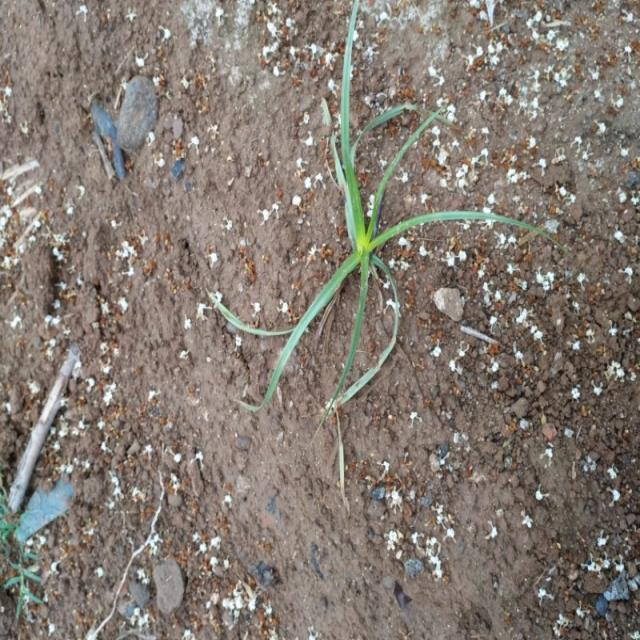sedge: (245, 56, 508, 437)
